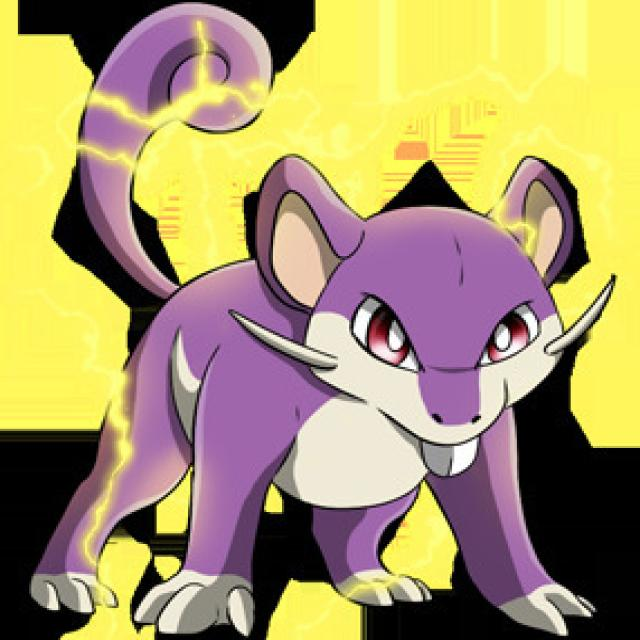Rattata: (119, 168, 586, 632)
